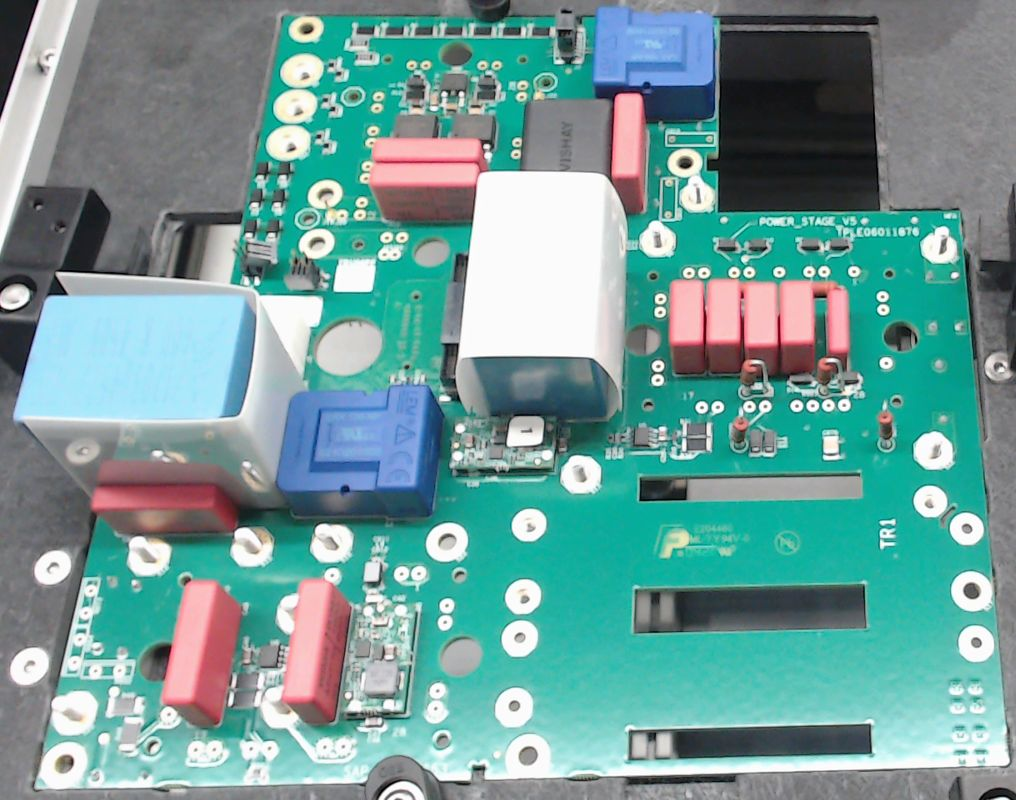comp1: (277, 381, 444, 518), (591, 6, 720, 122)
comp2: (162, 580, 242, 728), (282, 581, 353, 725), (89, 483, 239, 534), (368, 162, 481, 220), (611, 93, 645, 215), (739, 279, 779, 379), (667, 279, 705, 379), (706, 277, 741, 375), (780, 278, 813, 377), (370, 135, 482, 163), (826, 286, 849, 364)
comp3: (520, 95, 616, 174)
comp4: (15, 271, 311, 511), (455, 171, 626, 421)
